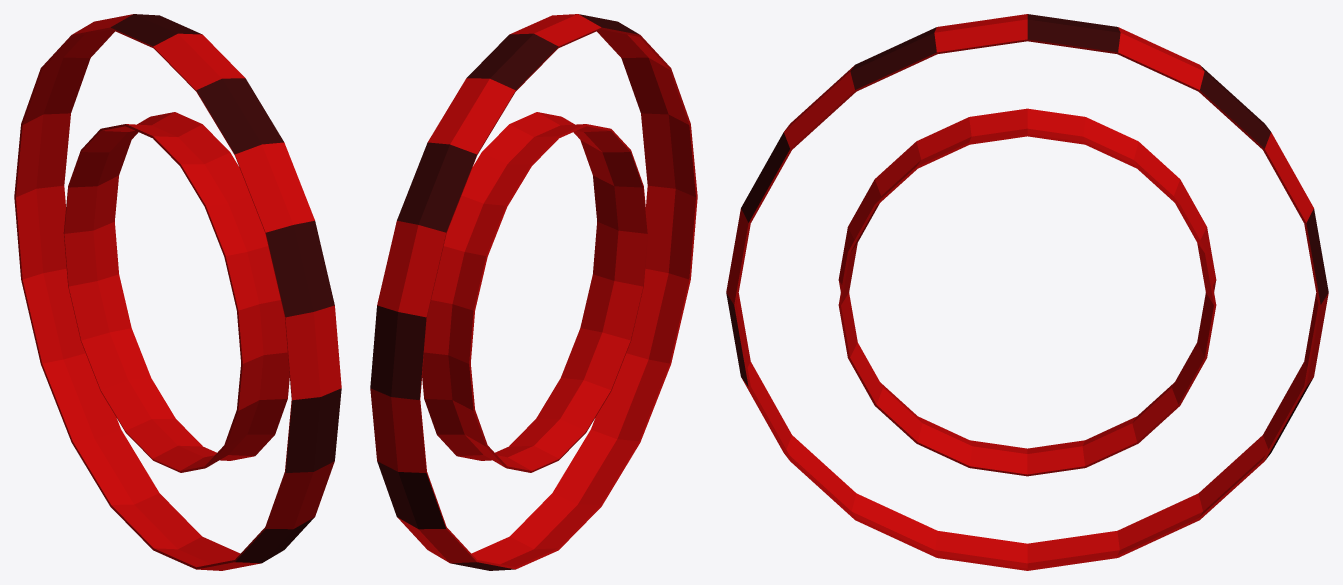
File: AcceleradorM2.obj
The picture shows the model from 3 angles, left to right: view 1: azimuth 30°, elevation 25°; view 2: azimuth 150°, elevation 25°; view 3: azimuth 270°, elevation 25°; orthographic projection. The views are drawn at different scales.
Visible parts, largest first — view 1: Torus.027; view 2: Torus.027; view 3: Torus.027.
Boxes of the visible parts, x1,y1,x2,y2 form: Torus.027: [14, 14, 341, 570]; Torus.027: [370, 14, 697, 570]; Torus.027: [726, 14, 1328, 570].
Size of the model in its own units: 0.1148 by 1.12 by 1.12.
